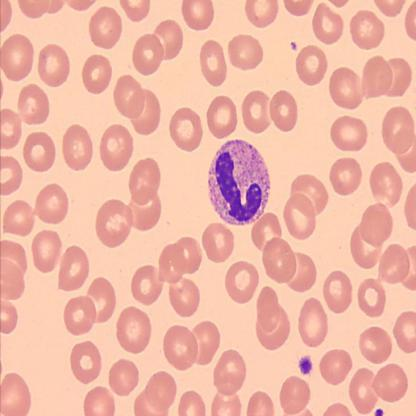Band Neutrophil: (206, 136, 272, 228)
